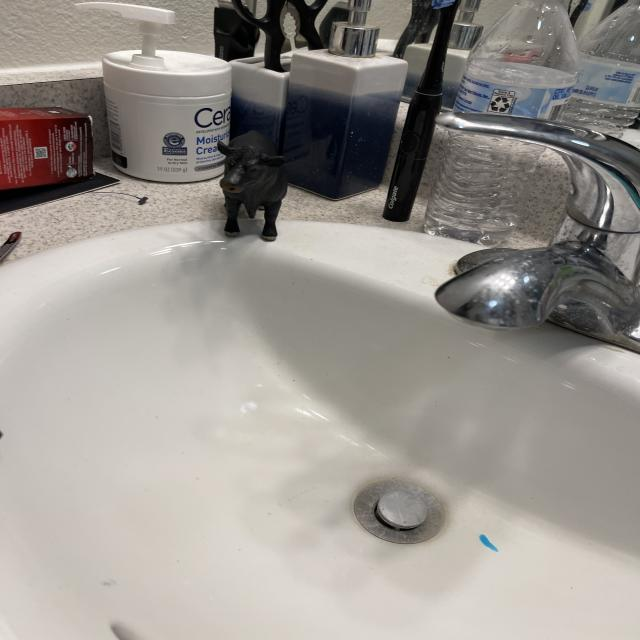cow: (217, 130, 289, 243)
